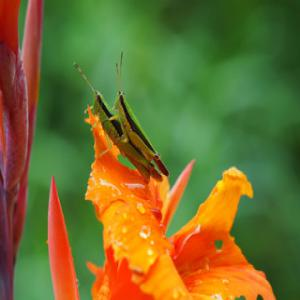locust: (82, 59, 170, 169)
